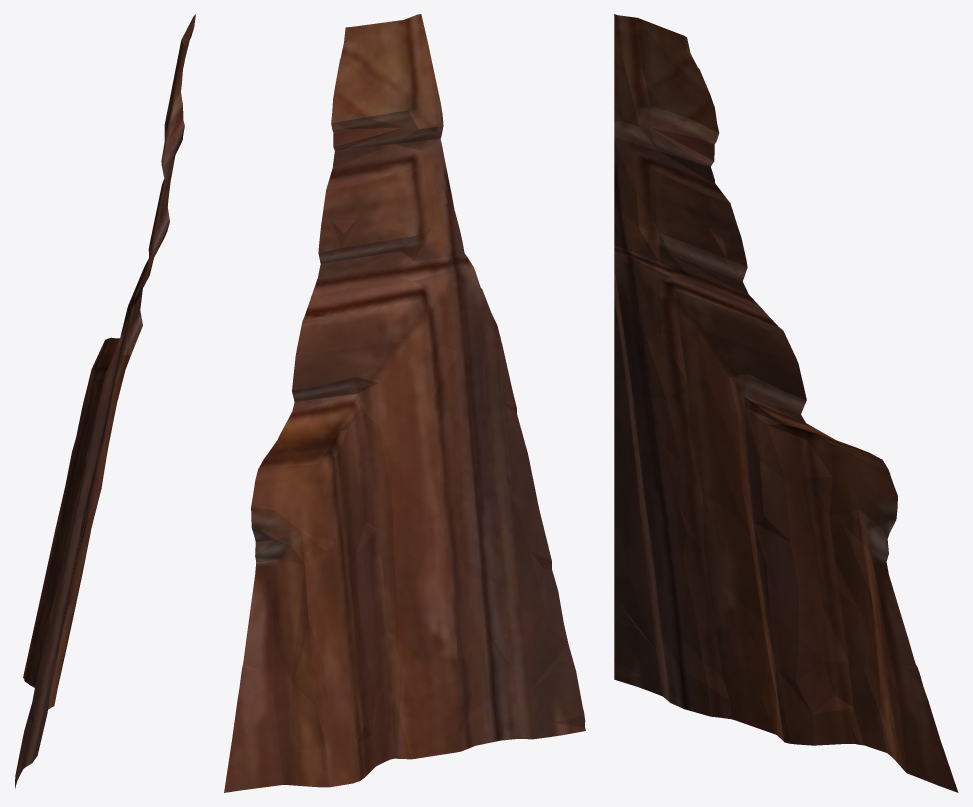
The picture shows the model from 3 angles, left to right: view 1: azimuth 30°, elevation 25°; view 2: azimuth 150°, elevation 25°; view 3: azimuth 270°, elevation 25°; orthographic projection. The views are drawn at different scales.
Bounding box in the file's own units: 0.2692 × 0.8374 × 0.3456.
Materials: 1 (1 with a texture image).
